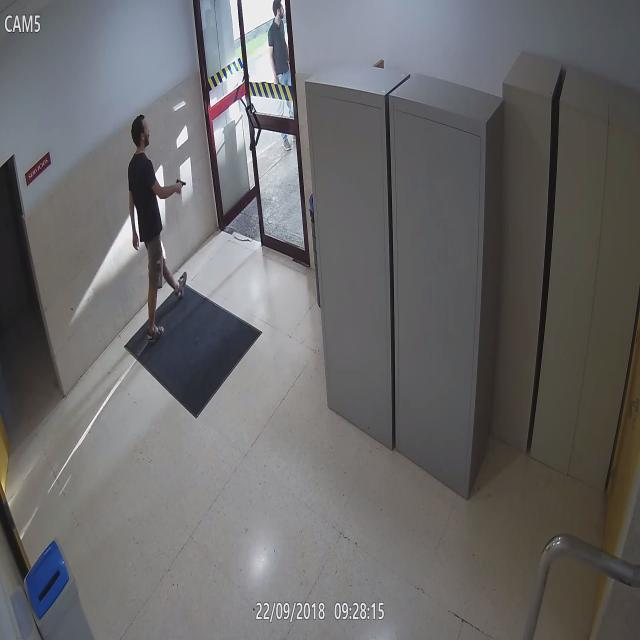Gun: (164, 169, 192, 205)
